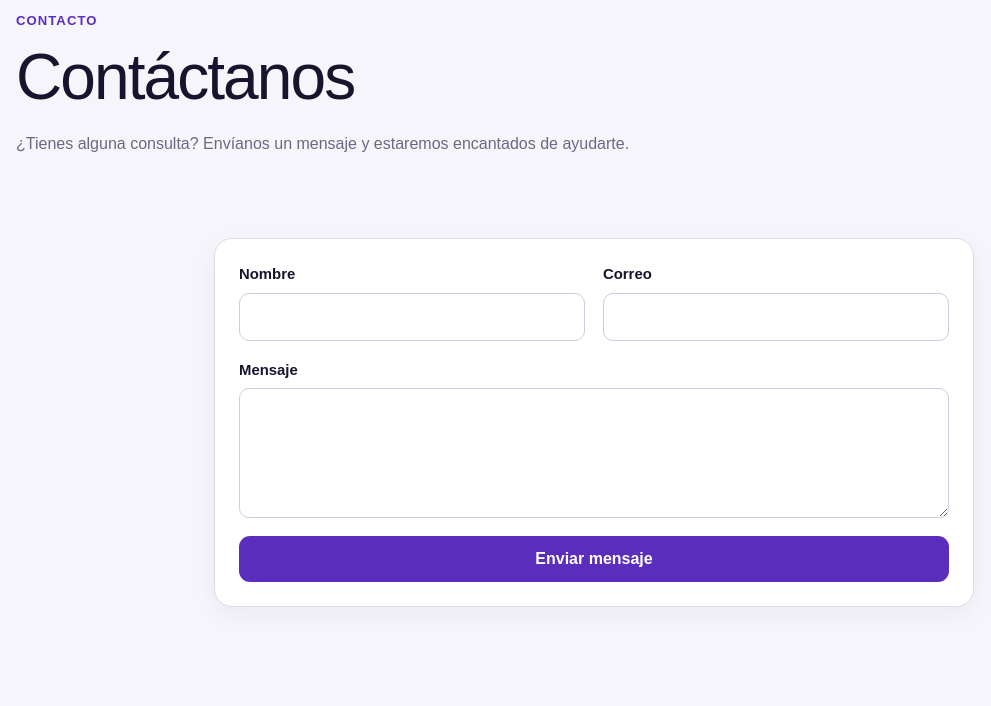
Test: Prueba Unitaria Contacto › debe enviar el formulario correctamente
Type "Seba Carrasco" into the field labelled "Nombre". click: (412, 317)
box: x1=239 y1=293 x2=585 y2=341
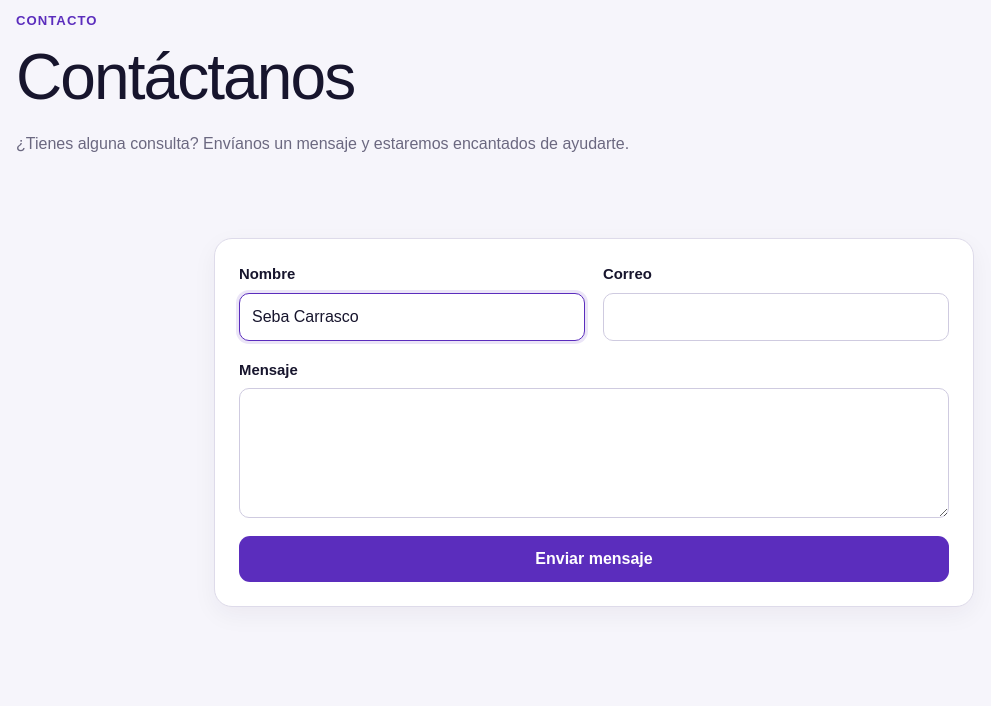
Type "seba@gmail.com" into the field labelled "Correo". click: (776, 317)
box: x1=603 y1=293 x2=949 y2=341
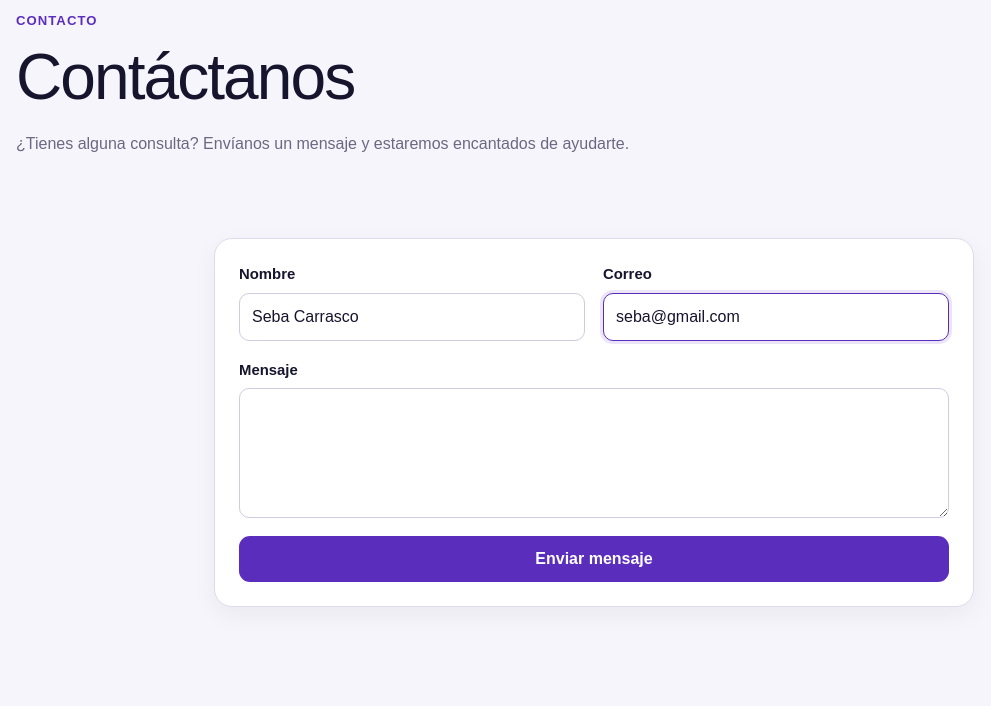
Type "Quiero consultar por un producto" into the text box labelled "Mensaje". click: (594, 453)
box: x1=239 y1=388 x2=949 y2=518
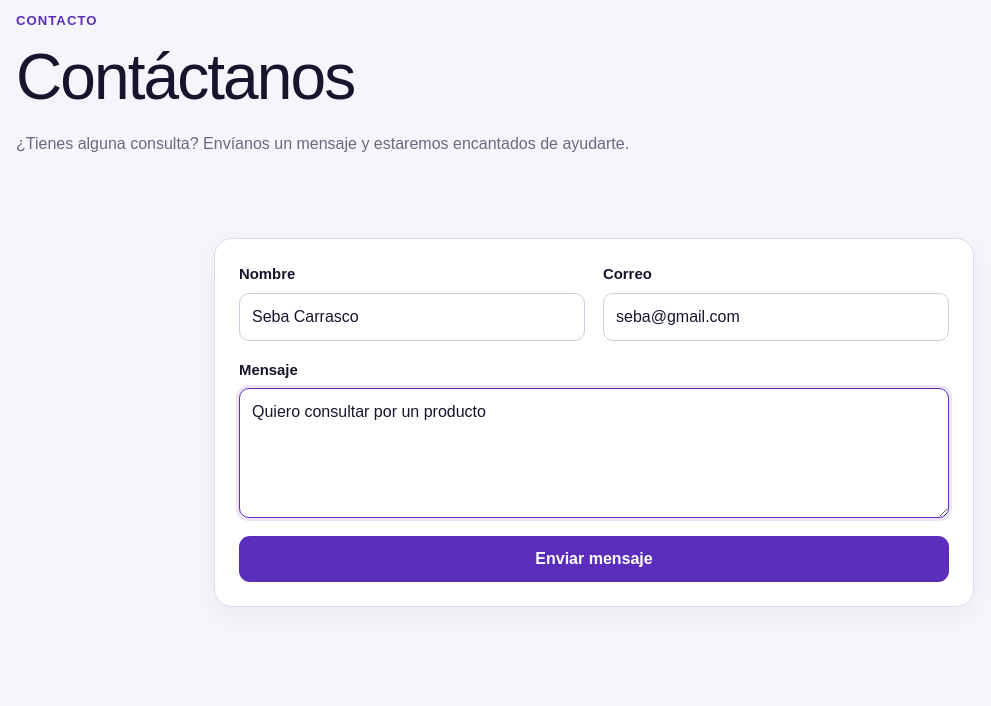
Click the button "Enviar mensaje". click: click(594, 559)
box: x1=239 y1=536 x2=949 y2=582
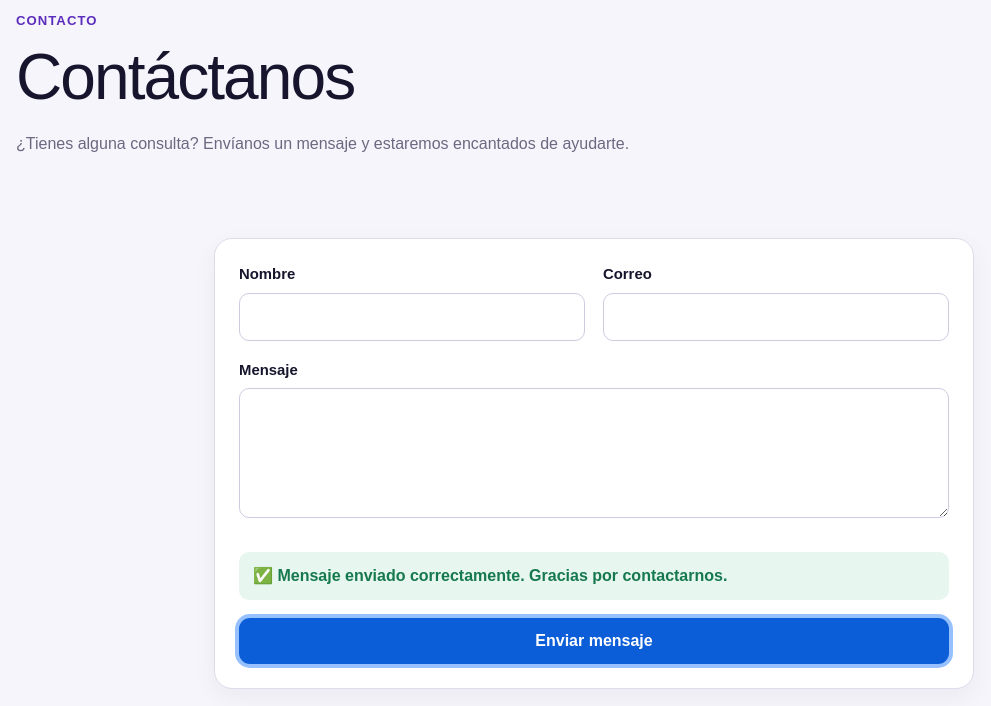
Result: the text "✅ Mensaje enviado correctamente. Gracias por contactarnos." is shown at x1=239 y1=552 x2=949 y2=600
Result: the field labelled "Nombre" is empty at x1=239 y1=293 x2=585 y2=341
Result: the field labelled "Correo" is empty at x1=603 y1=293 x2=949 y2=341
